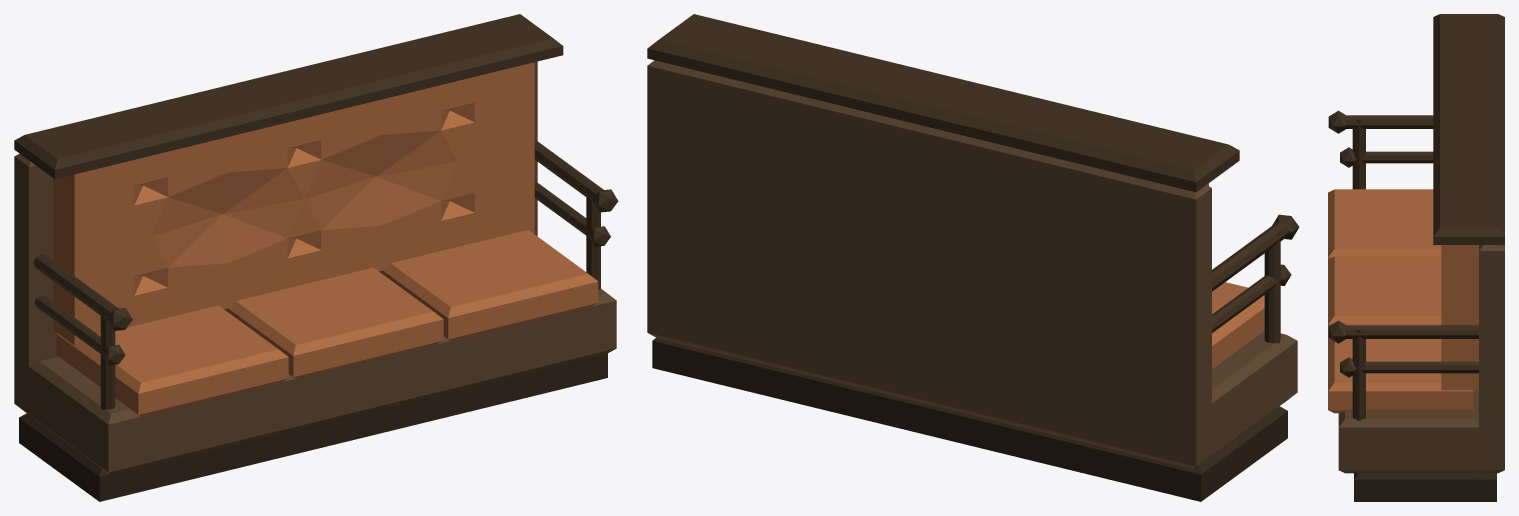
File: banquette-bench-run-8e972f.glb
The picture shows the model from 3 angles, left to right: view 1: azimuth 30°, elevation 25°; view 2: azimuth 150°, elevation 25°; view 3: azimuth 270°, elevation 25°; orthographic projection. The views are drawn at different scales.
Parts seen in each view (by area): view 1: banquette-bench-run; view 2: banquette-bench-run; view 3: banquette-bench-run.
Boxes of the visible parts, x1,y1,x2,y2 form: banquette-bench-run: (14,14,618,501); banquette-bench-run: (647,14,1299,501); banquette-bench-run: (1328,14,1504,501).
Size of the model in its own units: 2 by 1.15 by 0.68.
